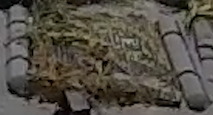bag: (6, 2, 207, 112)
